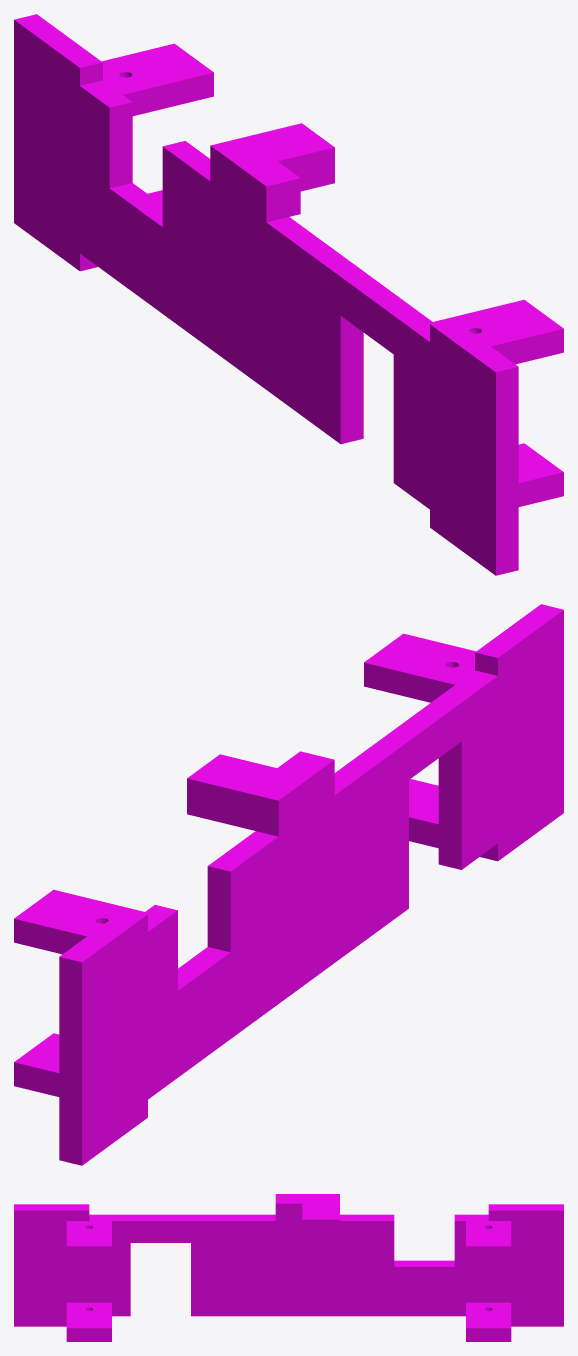
Rendered from lid.glb.
3 views of the same model, one above another, from view 1: azimuth 30°, elevation 25°; view 2: azimuth 150°, elevation 25°; view 3: azimuth 270°, elevation 25° (orthographic). The views are drawn at different scales.
Parts seen in each view (by area): view 1: lid; view 2: lid; view 3: lid.
Boxes of the visible parts, x1,y1,x2,y2 form: lid: (14,14,563,575); lid: (14,604,563,1165); lid: (14,1194,563,1341).
Bounding box in the file's own units: 0.1 × 0.185 × 0.73.
